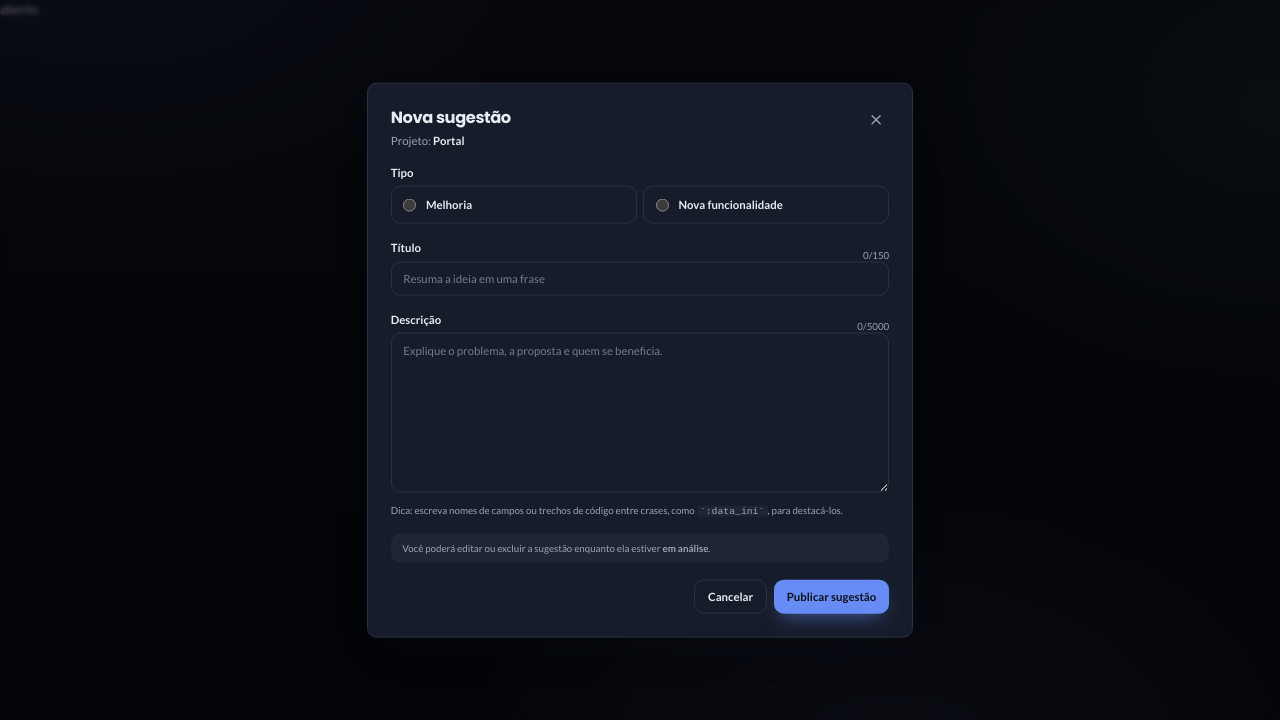
Scenario: Nova sugestão: proteção contra perder o que foi digitado › fecha sem perguntar depois de publicar
Click the radio button labelled "Melhoria". click: (410, 205)
box: [403, 198, 416, 211]
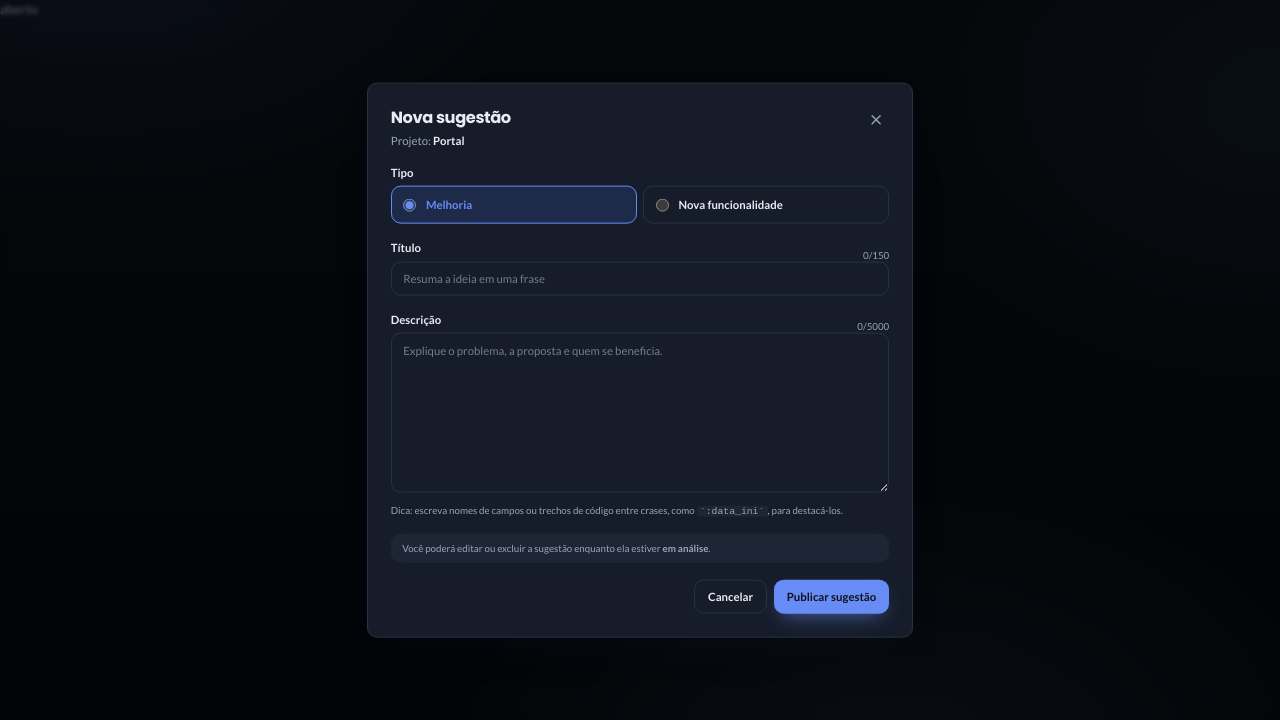
Type "Atalho para duplicar pedido" into the field labelled "Título". click: (640, 278)
box: [391, 261, 889, 296]
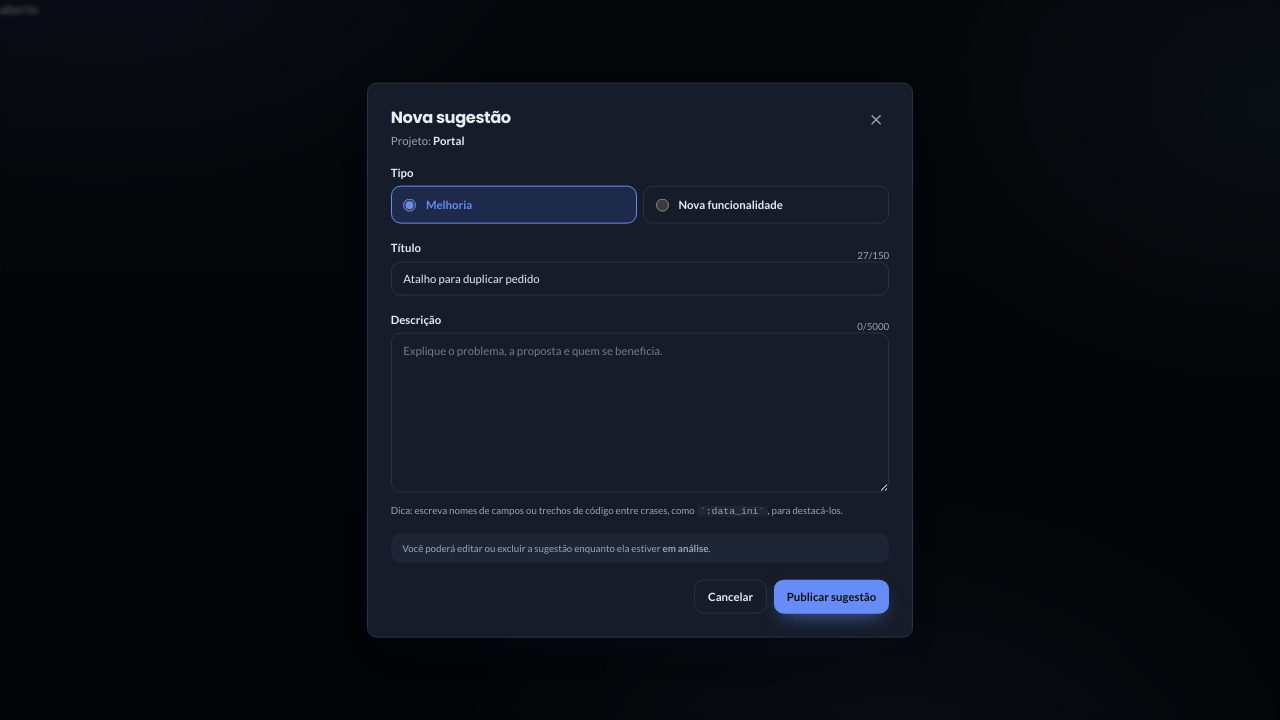
Type "Um botão na lista de pedidos que cria uma cópia com os mesmos itens e cliente." into the text box labelled "Descrição". click: (640, 413)
box: [391, 333, 889, 493]
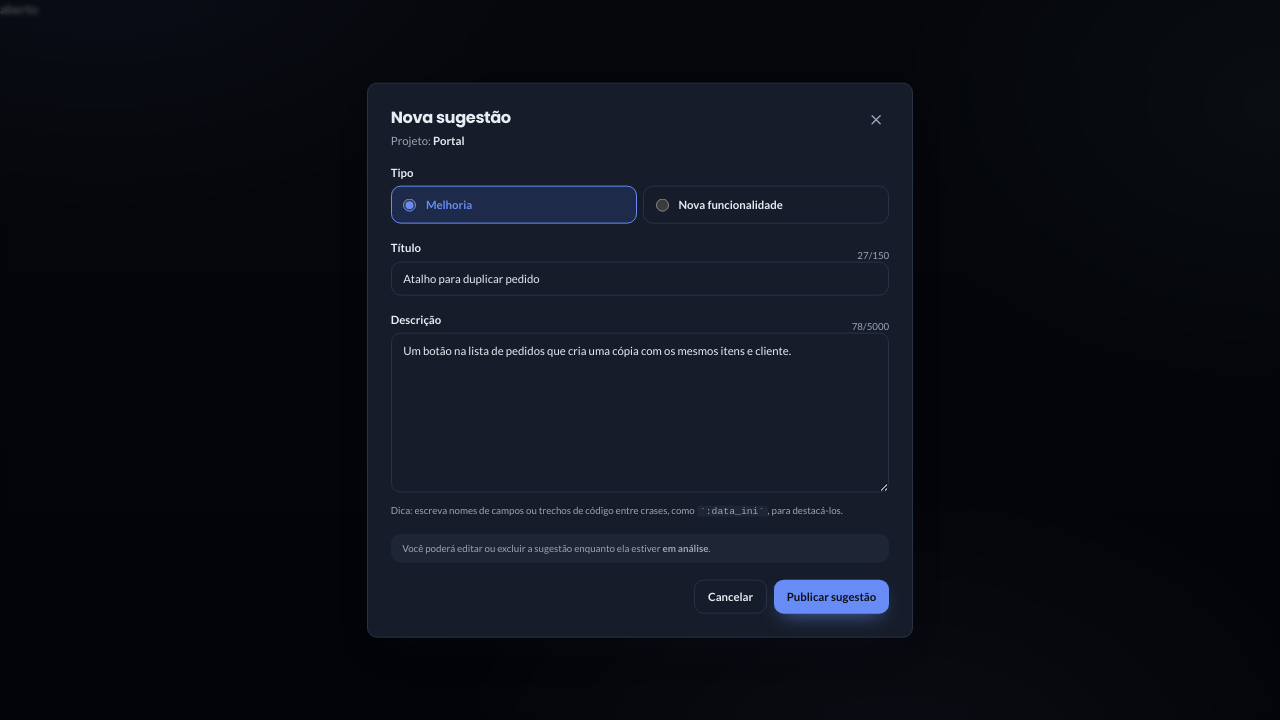
Click the button "Publicar sugestão". click: (831, 596)
box: [774, 579, 889, 614]
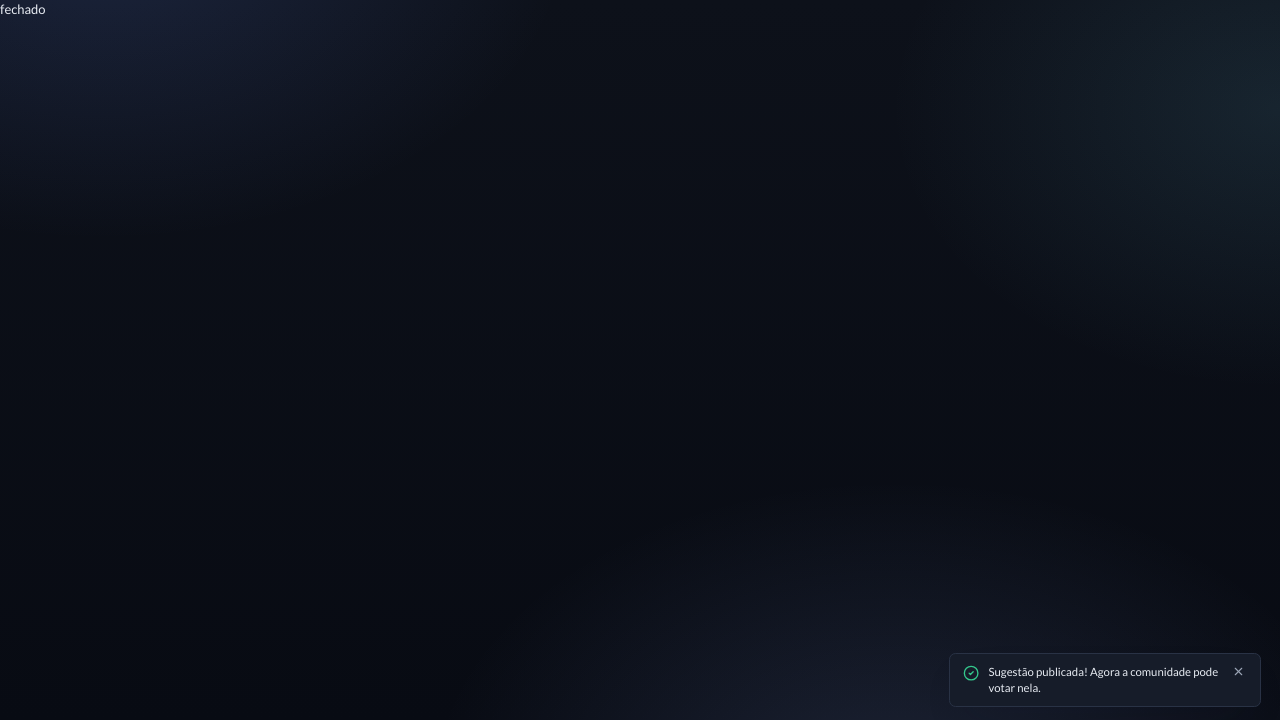
expect the text "fechado" is shown: met, box [0, 1, 46, 17]
